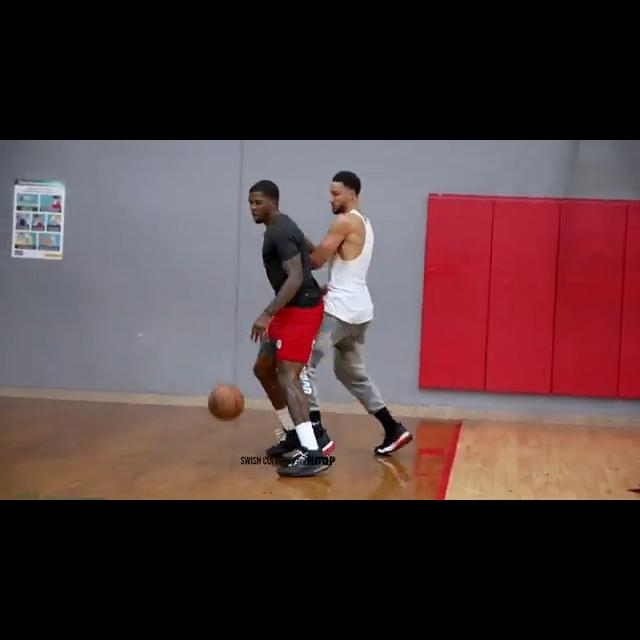basketball: (207, 384, 245, 422)
person: (297, 169, 413, 456), (247, 179, 330, 478)
